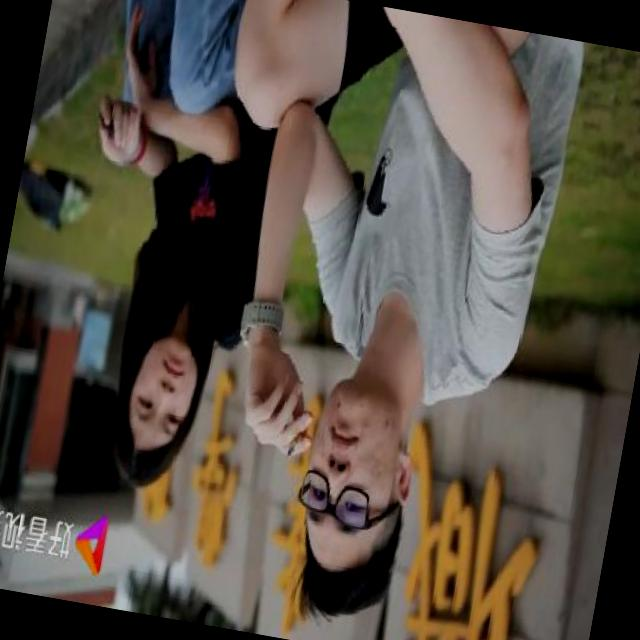smoke: (278, 417, 312, 470)
